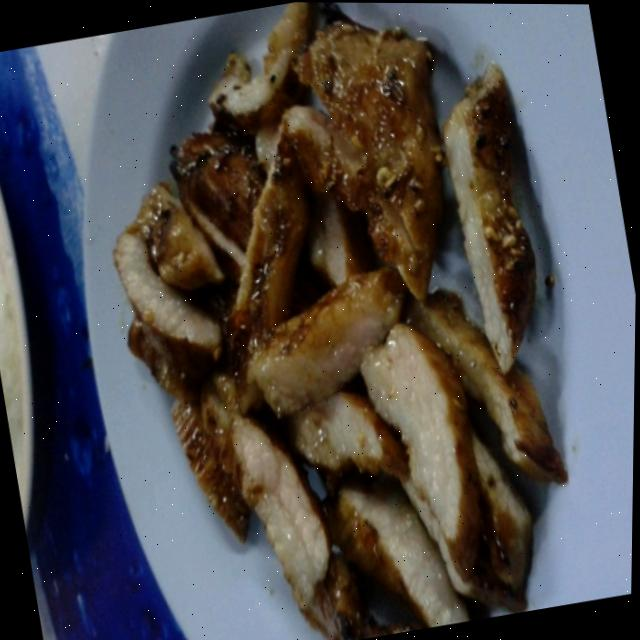猪肉菜式: (20, 0, 640, 640)
